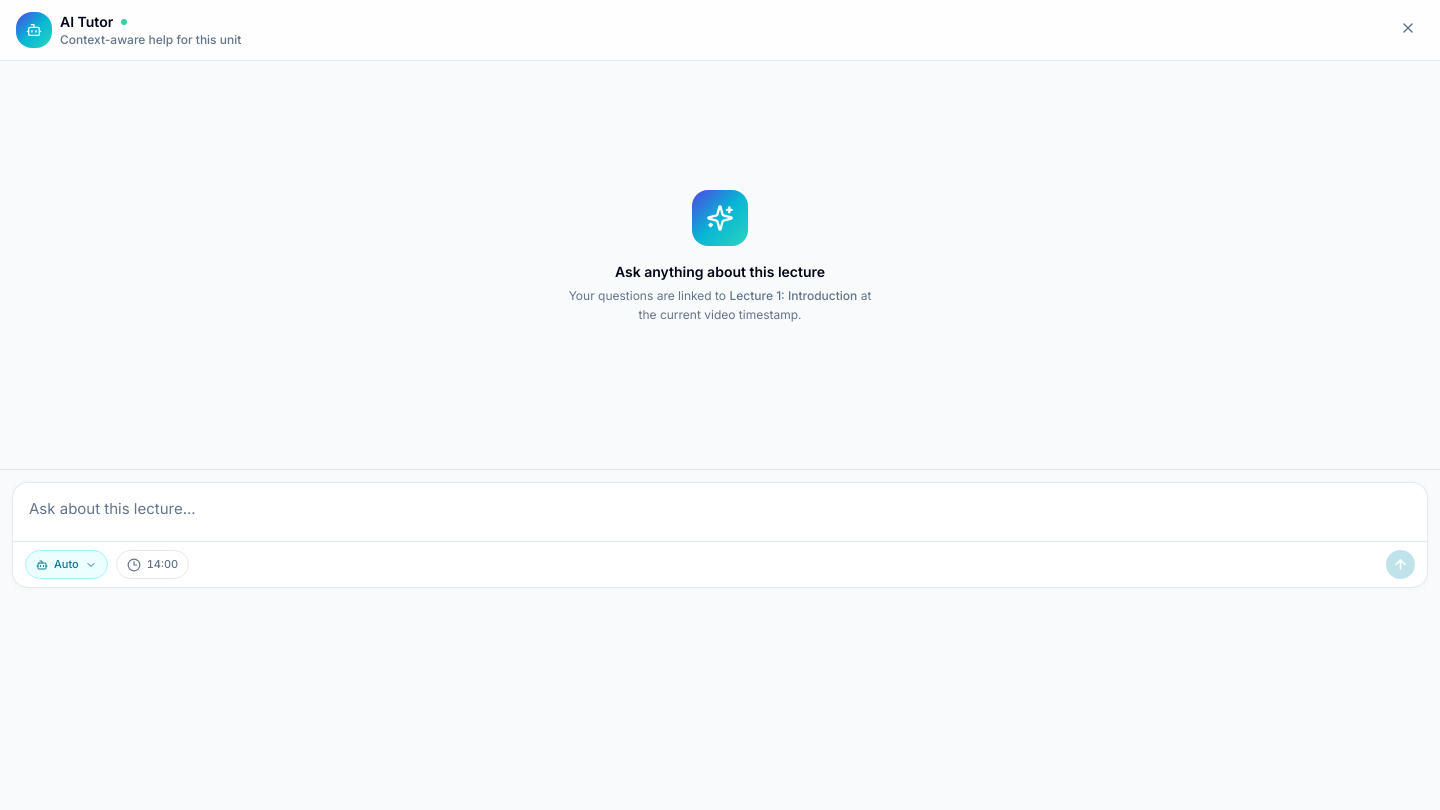
InContextTutor › falls back to the same-origin tutor stream URL when NEXT_PUBLIC_API_URL is cross-origin
Step 1. Type "Explain the main idea." into the text box with placeholder "Ask about this lecture..." → (720, 509), box [13,483,1427,535]
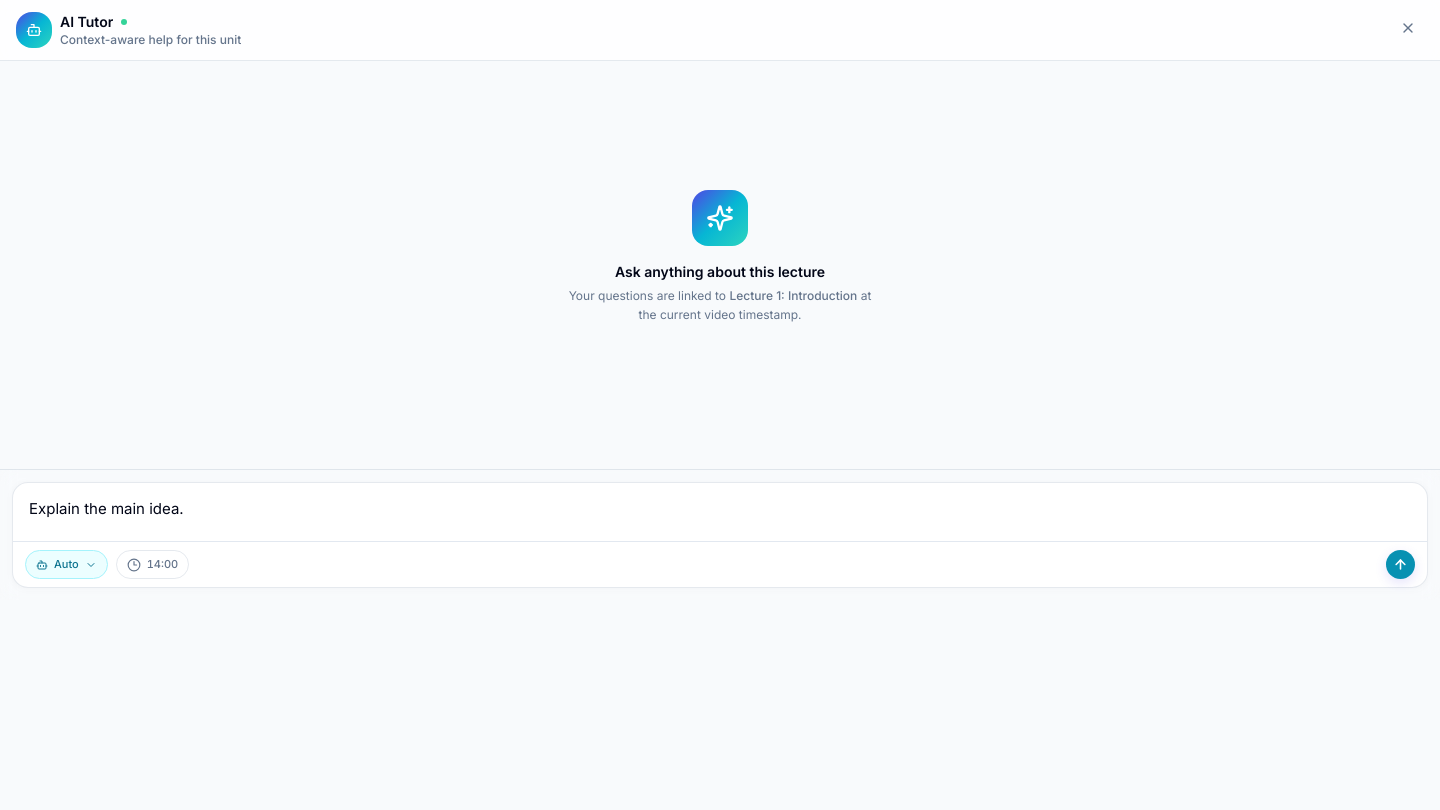
Step 2. Click the button named "Send question" → (1400, 564), box [1386,550,1415,579]
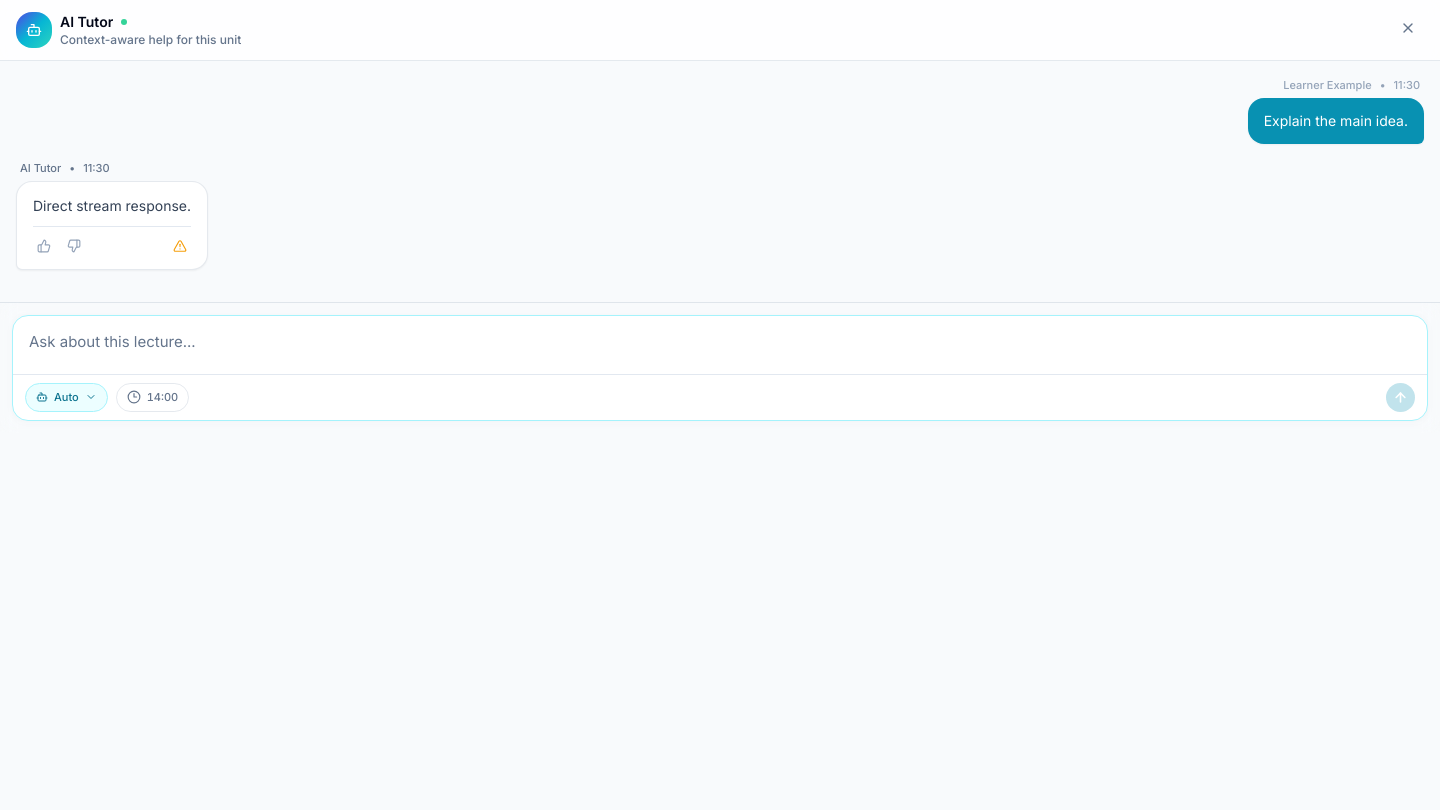
Expected: the text "Direct stream response." is shown, [33,194,191,218]
